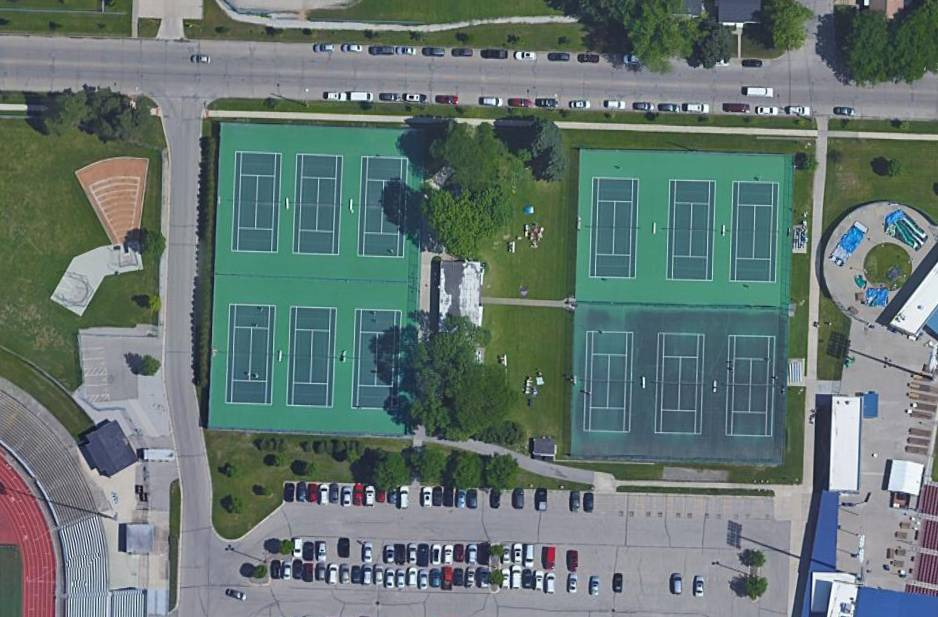small vehicle: (224, 586, 249, 604), (543, 545, 559, 571), (489, 543, 503, 568), (721, 102, 750, 114), (746, 86, 775, 98), (511, 565, 524, 591), (477, 543, 491, 567), (623, 53, 648, 66), (685, 101, 710, 114), (430, 543, 443, 568), (489, 486, 503, 509), (670, 573, 684, 595), (482, 49, 510, 60), (318, 485, 332, 507), (524, 543, 536, 568), (349, 91, 374, 103), (442, 567, 454, 592), (352, 485, 365, 508), (328, 484, 341, 507), (434, 94, 461, 105), (465, 567, 477, 591), (533, 571, 546, 593), (338, 537, 351, 559), (466, 544, 479, 566), (545, 573, 557, 596), (326, 91, 349, 103), (418, 544, 430, 567), (399, 487, 411, 510), (364, 486, 376, 509), (514, 487, 526, 510), (443, 543, 455, 566), (508, 97, 533, 108), (453, 543, 466, 564), (833, 105, 855, 117), (695, 575, 707, 597), (443, 486, 455, 508), (500, 569, 512, 591), (296, 482, 308, 504), (568, 549, 579, 572), (456, 489, 468, 510), (395, 569, 407, 590), (362, 566, 374, 587), (478, 569, 490, 590), (341, 488, 353, 509), (578, 53, 600, 64), (633, 101, 655, 112), (515, 51, 537, 62), (191, 54, 213, 65), (314, 42, 336, 53), (342, 43, 364, 54), (584, 492, 595, 514), (419, 569, 430, 591), (396, 544, 407, 566), (385, 568, 396, 590), (788, 106, 812, 116), (535, 98, 559, 108), (423, 47, 447, 57), (430, 569, 442, 589), (283, 483, 295, 503), (307, 484, 319, 504), (590, 576, 601, 597), (568, 574, 579, 595), (523, 569, 534, 590), (271, 560, 282, 581), (452, 47, 473, 58), (432, 488, 443, 509), (363, 543, 374, 564), (340, 564, 351, 585), (657, 103, 680, 113), (538, 488, 548, 511), (453, 568, 465, 587), (370, 46, 395, 55), (606, 99, 626, 110), (756, 106, 778, 116), (549, 52, 571, 62), (482, 97, 504, 107), (408, 568, 419, 588), (408, 544, 419, 564), (422, 489, 433, 509), (467, 489, 478, 509), (570, 489, 579, 513), (351, 567, 363, 585), (293, 561, 305, 579), (318, 541, 328, 562), (304, 542, 315, 561), (515, 542, 524, 565), (293, 538, 303, 558), (569, 101, 591, 110), (375, 564, 384, 586), (614, 574, 624, 593), (381, 92, 400, 102), (386, 545, 396, 564), (304, 564, 314, 583), (503, 546, 513, 565), (317, 563, 327, 581), (283, 560, 292, 580), (398, 47, 417, 56), (406, 93, 423, 102)
tennis court: (224, 304, 278, 405), (286, 306, 339, 408), (588, 178, 641, 279), (292, 154, 344, 256), (583, 331, 635, 433), (725, 335, 776, 438), (357, 157, 409, 258), (654, 333, 706, 434), (231, 152, 283, 253), (666, 180, 717, 282), (729, 181, 780, 283), (351, 310, 403, 410)
